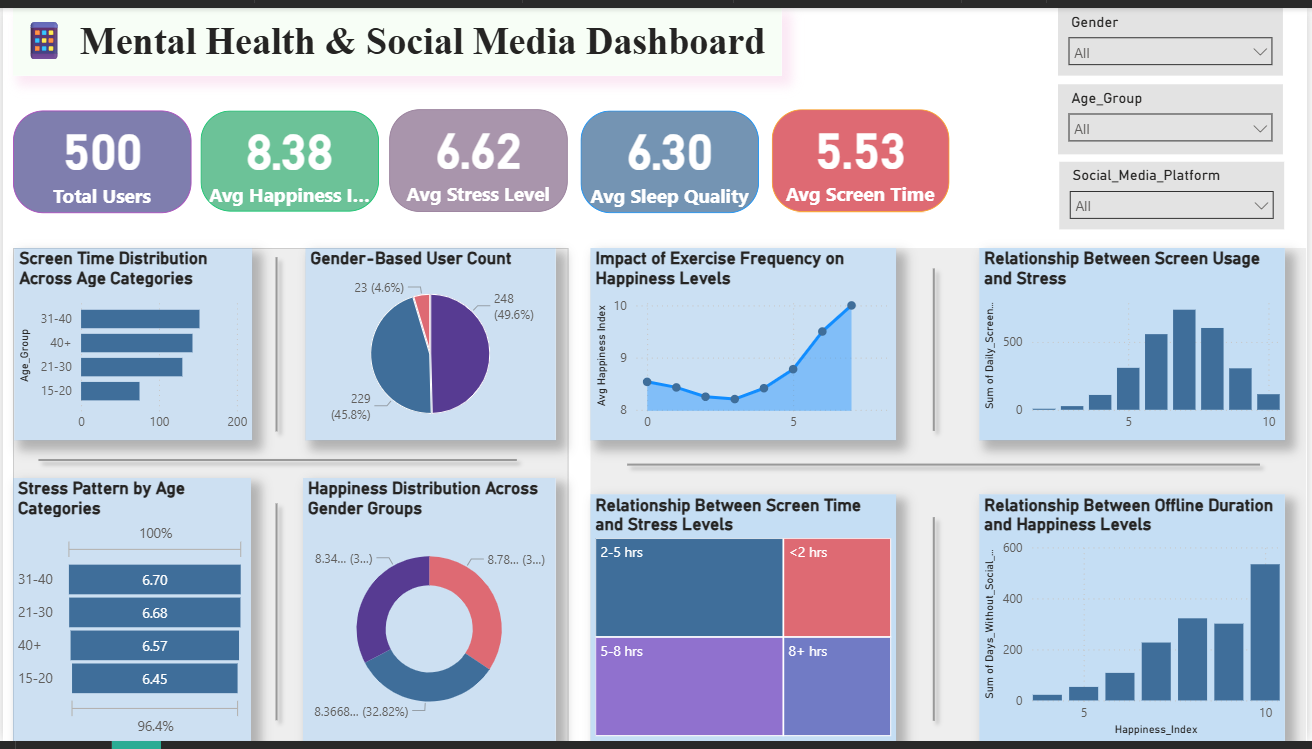

This screenshot's page, from the dashboard's own definition file:
{"tool":"powerbi","page":{"name":"Page 1","canvas":[1280,720],"ordinal":0},"visuals":[{"type":"textbox","box":[10.1,0,754.6,66.4],"z":0},{"type":"card","fields":{"Values":["Mental_Health_and_Social_Media_Balance_Dataset.Total Users"]},"box":[9.8,100.6,175.5,100.6],"z":2},{"type":"card","fields":{"Values":["Mental_Health_and_Social_Media_Balance_Dataset.Average Happiness Index"]},"box":[193.9,100.6,175.5,99.4],"z":4},{"type":"card","fields":{"Values":["Mental_Health_and_Social_Media_Balance_Dataset.Average Stress Level"]},"box":[379.1,99.4,175.5,100.6],"z":6},{"type":"card","fields":{"Values":["Mental_Health_and_Social_Media_Balance_Dataset.Average Sleep Quality"]},"box":[566.9,100.6,175.5,100.6],"z":8},{"type":"card","fields":{"Values":["Mental_Health_and_Social_Media_Balance_Dataset.Average Daily Screen Time"]},"box":[754.6,99.4,174.2,100.6],"z":10},{"type":"shape","box":[10.1,235.2,545.4,484.8],"z":11},{"type":"clusteredBarChart","title":"Screen Time Distribution Across Age Categories","fields":{"Category":["Mental_Health_and_Social_Media_Balance_Dataset.Age_Group"],"Y":["Mental_Health_and_Social_Media_Balance_Dataset.Daily_Screen_Time"]},"box":[11.5,235.2,233.7,189],"z":12},{"type":"funnel","title":"Stress Pattern by Age Categories","fields":{"Category":["Mental_Health_and_Social_Media_Balance_Dataset.Age_Group"],"Y":["Mental_Health_and_Social_Media_Balance_Dataset.Avg Stress Level"]},"box":[10.1,461.7,233.7,258.3],"z":13},{"type":"pieChart","title":"Gender-Based User Count","fields":{"Category":["Mental_Health_and_Social_Media_Balance_Dataset.Gender"],"Y":["Mental_Health_and_Social_Media_Balance_Dataset.Total Users"]},"box":[297.2,235.2,245.3,189],"z":14},{"type":"donutChart","title":"Happiness Distribution Across Gender Groups","fields":{"Category":["Mental_Health_and_Social_Media_Balance_Dataset.Gender"],"Y":["Mental_Health_and_Social_Media_Balance_Dataset.Avg Happiness Index"]},"box":[294.3,461.7,248.2,258.3],"z":15},{"type":"shape","box":[26,204.9,487.7,477.6],"z":16},{"type":"shape","box":[163,235.2,210.6,189],"z":17},{"type":"shape","box":[163,477.6,210.6,230.8],"z":18},{"type":"shape","box":[577.1,235.2,702.6,484.8],"z":19},{"type":"slicer","fields":{"Values":["Mental_Health_and_Social_Media_Balance_Dataset.Gender"]},"box":[1035.9,0,220.7,66.4],"z":20},{"type":"slicer","fields":{"Values":["Mental_Health_and_Social_Media_Balance_Dataset.Age_Group"]},"box":[1035.9,75,220.7,69],"z":21},{"type":"slicer","fields":{"Values":["Mental_Health_and_Social_Media_Balance_Dataset.Social_Media_Platform"]},"box":[1037.3,151.5,220.7,66.4],"z":22},{"type":"areaChart","title":"Impact of Exercise Frequency on Happiness Levels","fields":{"Category":["Mental_Health_and_Social_Media_Balance_Dataset.Exercise_Frequency"],"Y":["Mental_Health_and_Social_Media_Balance_Dataset.Avg Happiness Index"]},"box":[577.1,235.2,300.1,189],"z":23},{"type":"clusteredColumnChart","title":"Relationship Between Screen Usage and Stress","fields":{"Category":["Mental_Health_and_Social_Media_Balance_Dataset.Stress_Level"],"Y":["Mental_Health_and_Social_Media_Balance_Dataset.Daily_Screen_Time"]},"box":[958,235.2,300.1,189],"z":24},{"type":"treemap","title":"Relationship Between Screen Time and Stress Levels","fields":{"Group":["Mental_Health_and_Social_Media_Balance_Dataset.Screen_Time_Category"],"Values":["Mental_Health_and_Social_Media_Balance_Dataset.Stress_Level"]},"box":[577.1,477.6,300.1,242.4],"z":25},{"type":"clusteredColumnChart","title":"Relationship Between Offline Duration and Happiness Levels","fields":{"Category":["Mental_Health_and_Social_Media_Balance_Dataset.Happiness_Index"],"Y":["Mental_Health_and_Social_Media_Balance_Dataset.Days_Without_Social_Media"]},"box":[958,477.6,300.1,242.4],"z":26},{"type":"shape","box":[603.1,298.7,639.1,300.1],"z":27},{"type":"shape","box":[760.3,246.7,305.9,177.5],"z":28},{"type":"shape","box":[760.3,490.5,305.9,217.9],"z":29}]}

Visuals, with their boxes in screenshot pixels (x1, y1, x2, y2), scaled from the page's 1280x720 canvas onto the 1312x749 screenshot:
textbox: bbox=[10, 0, 784, 69]
card - Mental_Health_and_Social_Media_Balance_Dataset.Total Users: bbox=[10, 105, 190, 209]
card - Mental_Health_and_Social_Media_Balance_Dataset.Average Happiness Index: bbox=[199, 105, 379, 208]
card - Mental_Health_and_Social_Media_Balance_Dataset.Average Stress Level: bbox=[389, 103, 568, 208]
card - Mental_Health_and_Social_Media_Balance_Dataset.Average Sleep Quality: bbox=[581, 105, 761, 209]
card - Mental_Health_and_Social_Media_Balance_Dataset.Average Daily Screen Time: bbox=[773, 103, 952, 208]
shape: bbox=[10, 245, 569, 748]
"Screen Time Distribution Across Age Categories" clusteredBarChart: bbox=[12, 245, 251, 441]
"Stress Pattern by Age Categories" funnel: bbox=[10, 480, 250, 748]
"Gender-Based User Count" pieChart: bbox=[305, 245, 556, 441]
"Happiness Distribution Across Gender Groups" donutChart: bbox=[302, 480, 556, 748]
shape: bbox=[27, 213, 527, 710]
shape: bbox=[167, 245, 383, 441]
shape: bbox=[167, 497, 383, 737]
shape: bbox=[592, 245, 1311, 748]
slicer - Mental_Health_and_Social_Media_Balance_Dataset.Gender: bbox=[1062, 0, 1288, 69]
slicer - Mental_Health_and_Social_Media_Balance_Dataset.Age_Group: bbox=[1062, 78, 1288, 150]
slicer - Mental_Health_and_Social_Media_Balance_Dataset.Social_Media_Platform: bbox=[1063, 158, 1289, 227]
"Impact of Exercise Frequency on Happiness Levels" areaChart: bbox=[592, 245, 899, 441]
"Relationship Between Screen Usage and Stress" clusteredColumnChart: bbox=[982, 245, 1290, 441]
"Relationship Between Screen Time and Stress Levels" treemap: bbox=[592, 497, 899, 748]
"Relationship Between Offline Duration and Happiness Levels" clusteredColumnChart: bbox=[982, 497, 1290, 748]
shape: bbox=[618, 311, 1273, 623]
shape: bbox=[779, 257, 1093, 441]
shape: bbox=[779, 510, 1093, 737]
